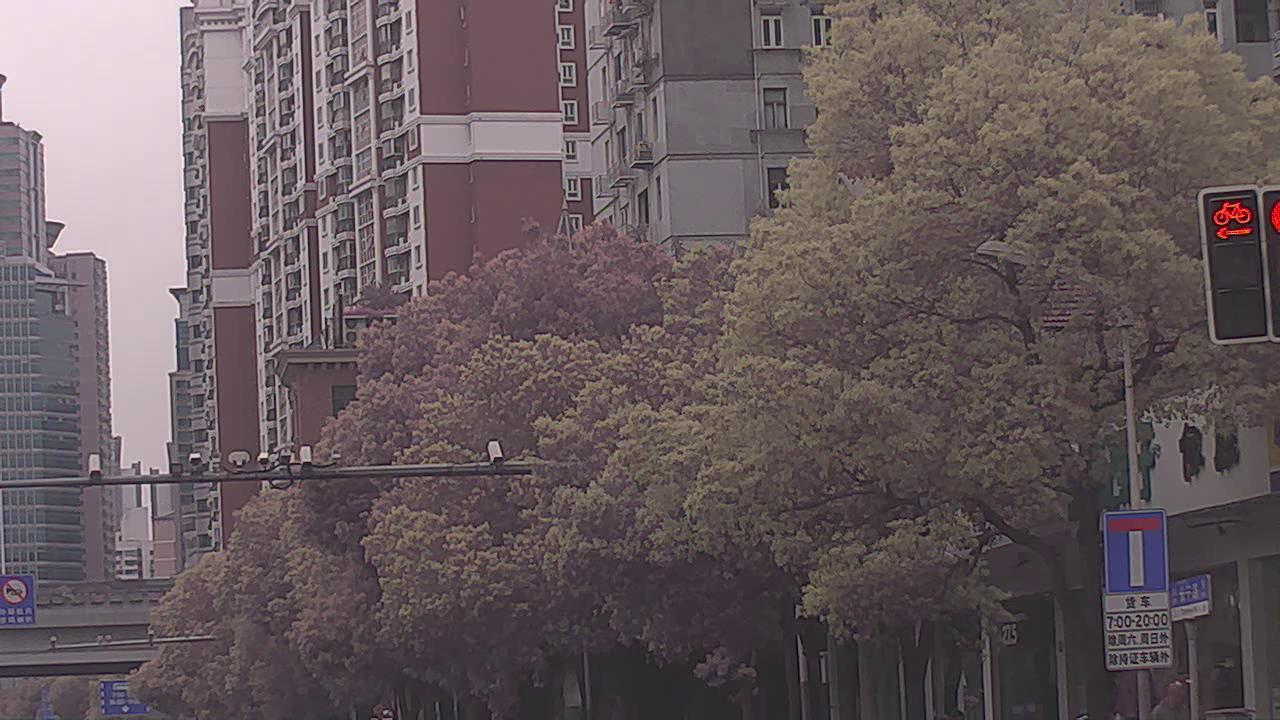traffic_light: (1203, 187, 1268, 348)
